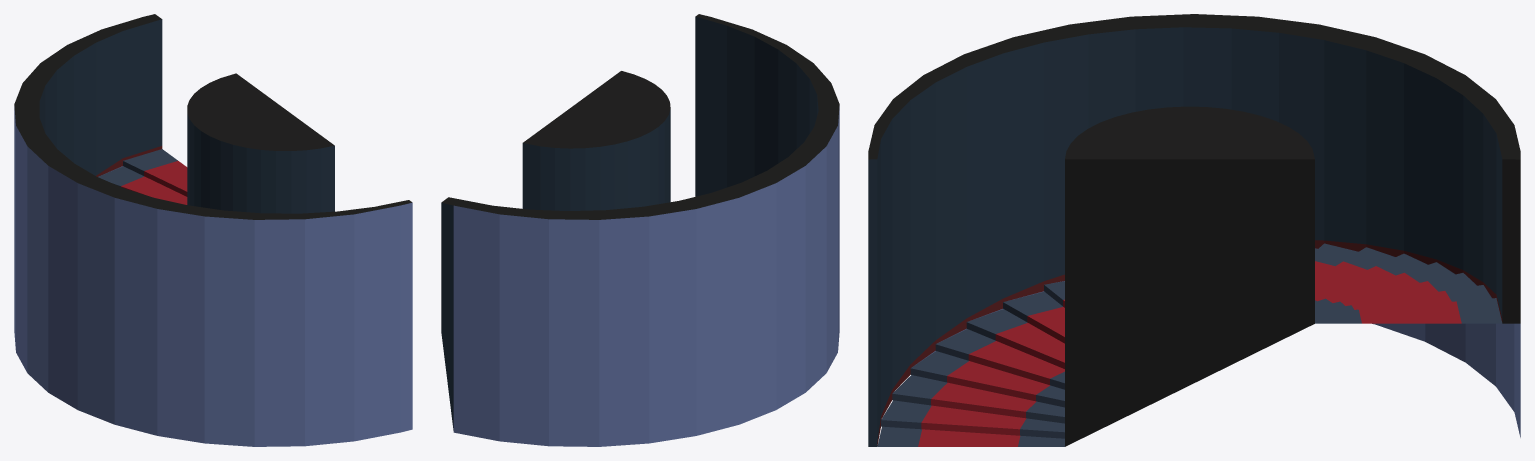
File: __stairs_and_stairs_wall.fbx
3 renders of one model, left to right at view 1: azimuth 30°, elevation 25°; view 2: azimuth 150°, elevation 25°; view 3: azimuth 270°, elevation 25°, orthographic. The views are drawn at different scales.
Visible parts, largest first — view 1: stairs_wall.001, stairs_wall, stairs; view 2: stairs_wall.001, stairs_wall; view 3: stairs_wall.001, stairs_wall, stairs.
Boxes of the visible parts, x1,y1,x2,y2 form: stairs_wall.001: [14, 14, 412, 446]; stairs_wall: [187, 73, 334, 213]; stairs: [98, 149, 187, 204]; stairs_wall.001: [441, 14, 839, 446]; stairs_wall: [522, 71, 670, 210]; stairs_wall.001: [868, 14, 1520, 446]; stairs_wall: [1065, 106, 1314, 446]; stairs: [877, 243, 1502, 446].
Size of the model in its own units: 7.6 by 14.4 by 7.
